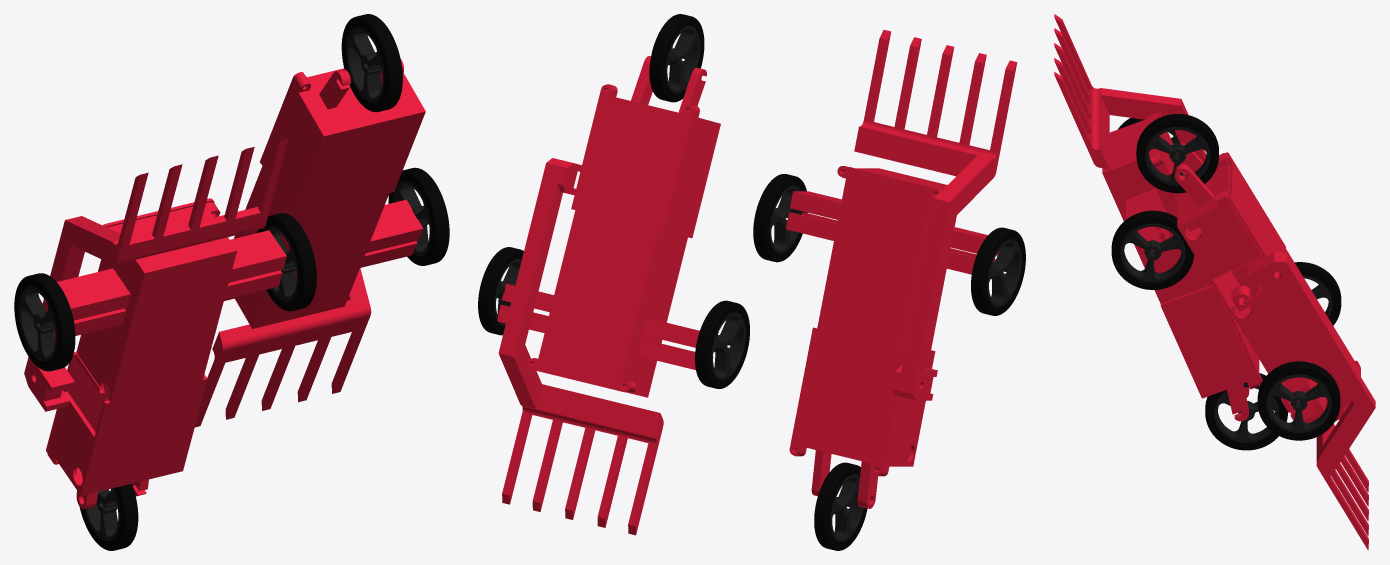
Rendered from smashbot.glb.
3 renders of one model, left to right at view 1: azimuth 30°, elevation 25°; view 2: azimuth 150°, elevation 25°; view 3: azimuth 270°, elevation 25°, orthographic. The views are drawn at different scales.
Visible parts, largest first — view 1: podloga, podloga.002, Body3, Body3.002, Tire.001, Tire.008, Tire.002, Tire.007, Wheel.008, Wheel.001, Tire, Wheel (+2 smaller); view 2: podloga.002, podloga, Body3, Body3.002, Tire.001, Tire.006, Tire.008, Tire.002, Tire, Wheel.006, Wheel.001, Tire.007 (+4 smaller); view 3: podloga.002, podloga, Body3.002, Body3, Tire.007, Tire.008, Tire.002, Wheel.007, Wheel.002, Wheel.008, Tire, Wheel (+1 smaller).
Part boxes in pixels (left/top/right/bottom): podloga: left=43, top=198, right=286, bottom=509; podloga.002: left=224, top=59, right=425, bottom=328; Body3: left=24, top=138, right=288, bottom=411; Body3.002: left=194, top=268, right=371, bottom=427; Tire.001: left=14, top=273, right=75, bottom=371; Tire.008: left=341, top=14, right=402, bottom=112; Tire.002: left=257, top=213, right=316, bottom=311; Tire.007: left=388, top=167, right=449, bottom=265; Wheel.008: left=346, top=27, right=384, bottom=102; Wheel.001: left=19, top=286, right=57, bottom=361; Tire: left=79, top=483, right=138, bottom=550; Wheel: left=84, top=488, right=119, bottom=541; podloga.002: left=497, top=56, right=720, bottom=397; podloga: left=786, top=166, right=999, bottom=508; Body3: left=854, top=30, right=1017, bottom=400; Body3.002: left=498, top=158, right=663, bottom=535; Tire.001: left=971, top=227, right=1025, bottom=315; Tire.006: left=695, top=300, right=749, bottom=388; Tire.008: left=649, top=14, right=704, bottom=102; Tire.002: left=753, top=174, right=807, bottom=262; Tire: left=814, top=462, right=867, bottom=550; Wheel.006: left=711, top=312, right=745, bottom=380; Wheel.001: left=987, top=239, right=1021, bottom=306; Tire.007: left=478, top=247, right=523, bottom=335; podloga.002: left=1174, top=143, right=1360, bottom=422; podloga: left=1102, top=111, right=1262, bottom=421; Body3.002: left=1247, top=252, right=1375, bottom=550; Body3: left=1054, top=14, right=1206, bottom=168; Tire.007: left=1257, top=361, right=1340, bottom=440; Tire.008: left=1136, top=114, right=1218, bottom=193; Tire.002: left=1111, top=210, right=1194, bottom=289; Wheel.007: left=1266, top=374, right=1331, bottom=433; Wheel.002: left=1120, top=223, right=1185, bottom=282; Wheel.008: left=1145, top=127, right=1210, bottom=185; Tire: left=1205, top=373, right=1287, bottom=450; Wheel: left=1214, top=384, right=1278, bottom=442.
Size of the model in its own units: 2.24 by 2.26 by 1.55.
